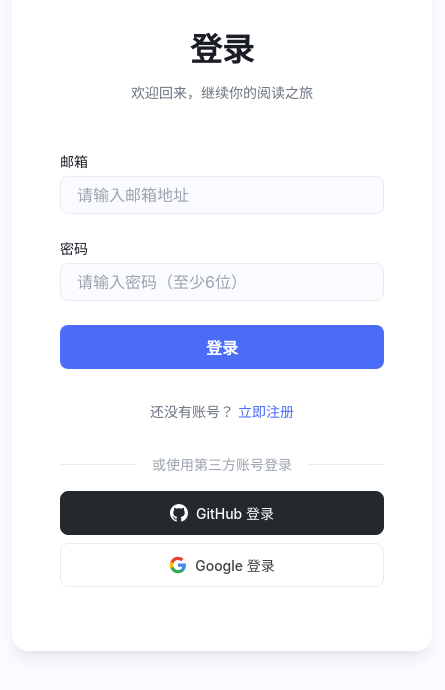
Scenario: LoginPage › shows error message on login failure
The image size is (445, 690).
Type "test@example.com" into the field with id "email" at (222, 194), box 60,176 -> 384,214
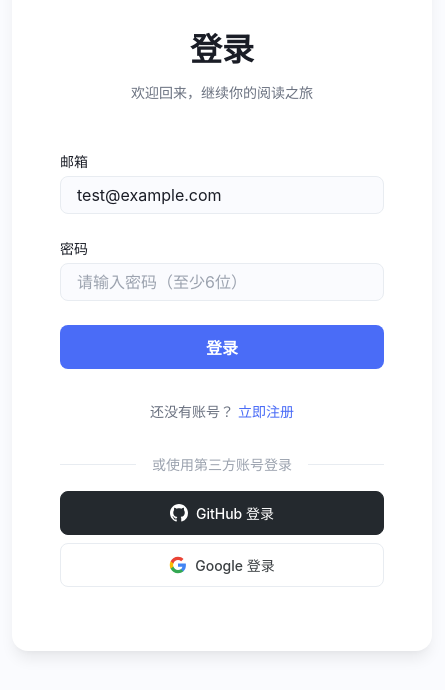
Type "wrong" into the password field labelled "密码" at (222, 282), box 60,262 -> 384,300
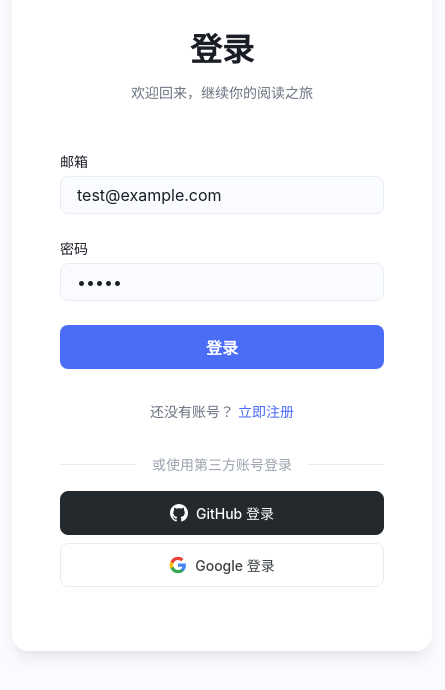
Submit the form, box 60,150 -> 384,368
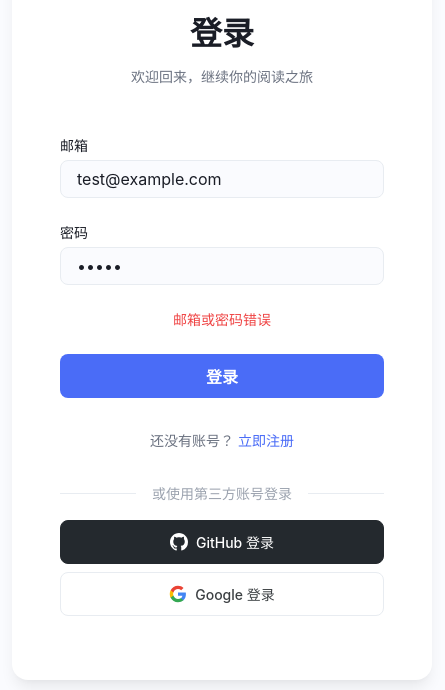
Result: the message with class "form-error" reads "邮箱或密码错误" at 173,311 -> 271,328
